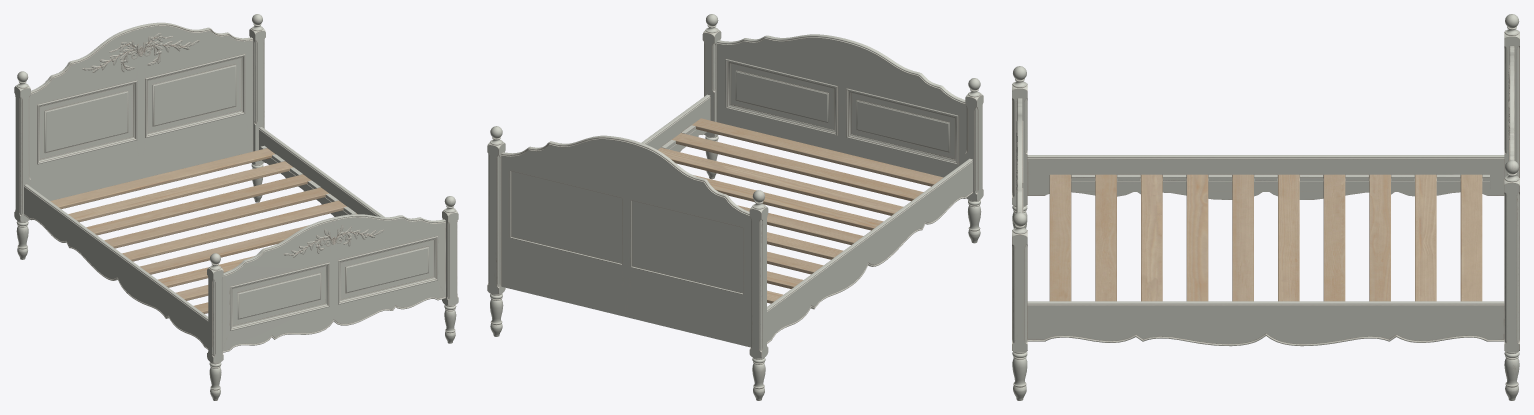
File: example150.gltf
3 renders of one model, left to right at view 1: azimuth 30°, elevation 25°; view 2: azimuth 150°, elevation 25°; view 3: azimuth 270°, elevation 25°, orthographic. The views are drawn at different scales.
Bounding box in the file's own units: 151 × 120 × 212.
Materials: 2 (2 with a texture image).
